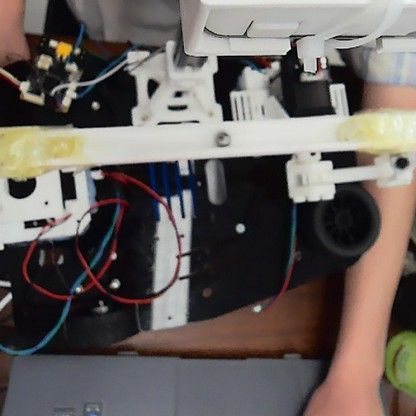ironball: (212, 128, 233, 150)
